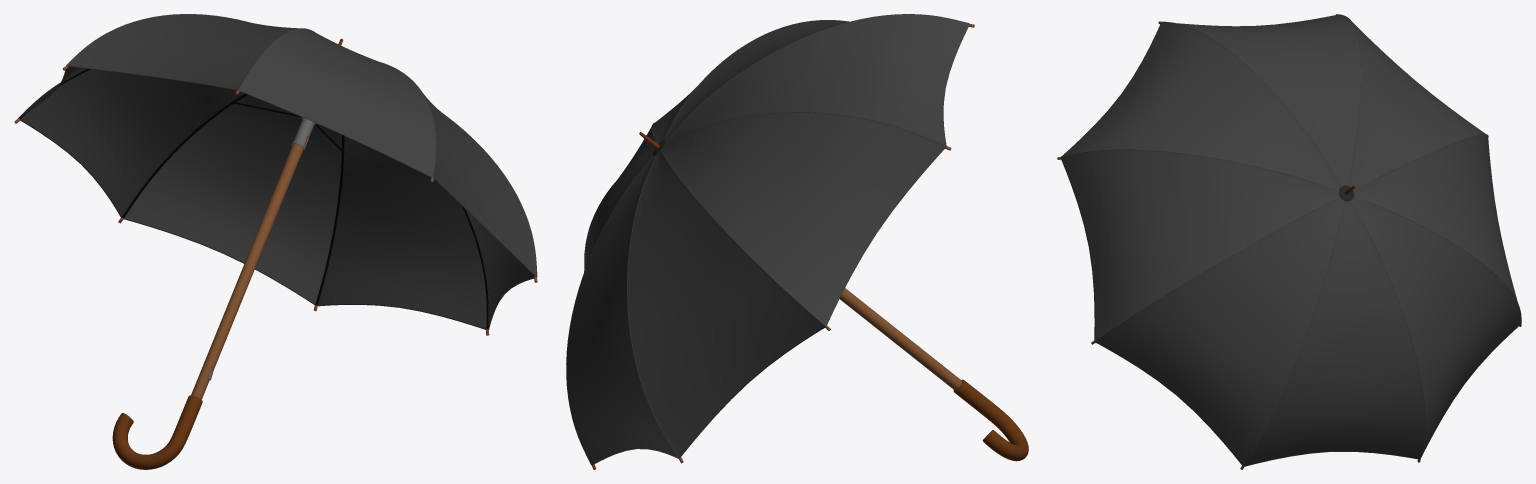
The model's file is Umbrella.fbx.
3 renders of one model, left to right at view 1: azimuth 30°, elevation 25°; view 2: azimuth 150°, elevation 25°; view 3: azimuth 270°, elevation 25°, orthographic. The views are drawn at different scales.
Visible parts, largest first — view 1: Sphere.004, Cylinder, Cylinder.001, Sphere.002; view 2: Sphere.004, Cylinder.001, Cylinder; view 3: Sphere.004.
Boxes of the visible parts, x1,y1,x2,y2 form: Sphere.004: (18, 14, 537, 329); Cylinder: (191, 137, 307, 399); Cylinder.001: (112, 395, 202, 469); Sphere.002: (19, 68, 488, 329); Sphere.004: (566, 14, 969, 465); Cylinder.001: (953, 379, 1028, 461); Cylinder: (839, 288, 962, 390); Sphere.004: (1060, 14, 1521, 466).
Size of the model in its own units: 294 by 281 by 333.
